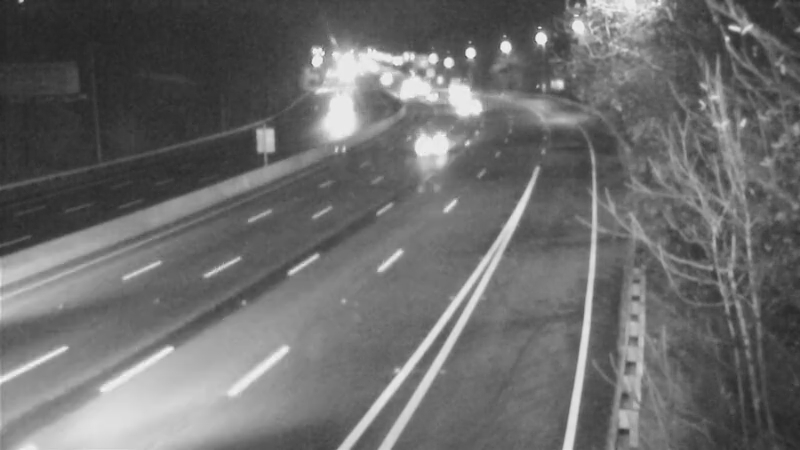vehicle: (360, 55, 410, 105), (430, 60, 480, 110), (382, 68, 432, 118), (429, 73, 479, 123), (445, 81, 495, 131), (410, 117, 460, 167), (315, 84, 365, 134)
